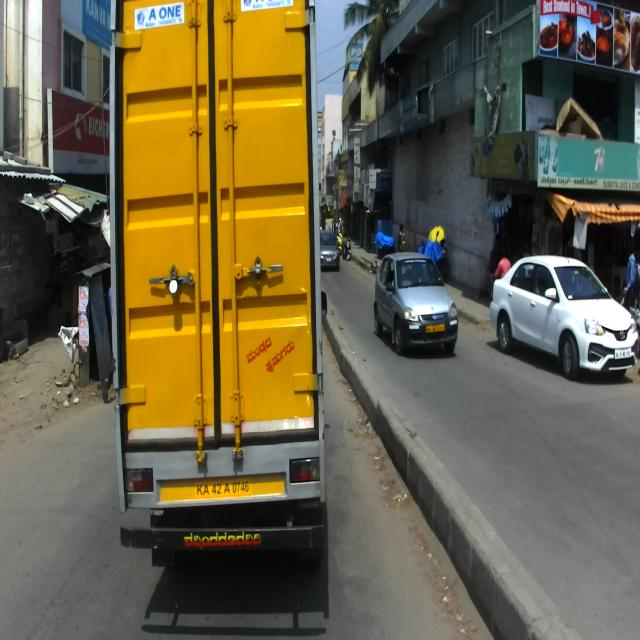car ahead at: (487, 254, 638, 382), (374, 249, 457, 356)
truck ahead at: (108, 0, 331, 568)
